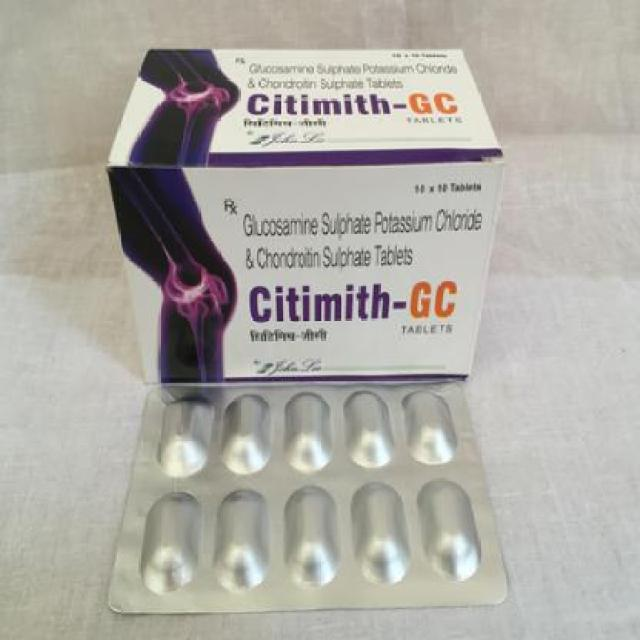B3: (141, 393, 484, 601)
